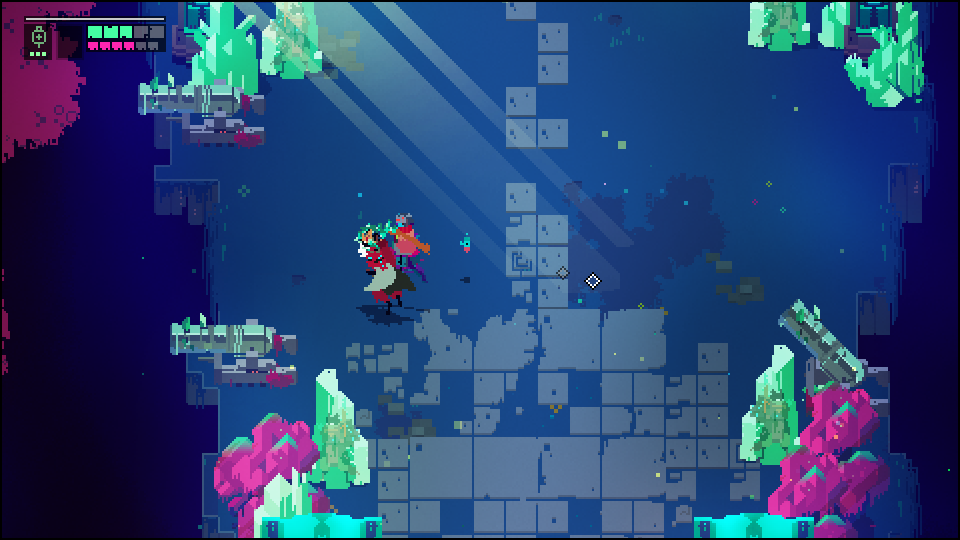hanged_man: (353, 222, 427, 331)
player: (395, 212, 420, 268)
